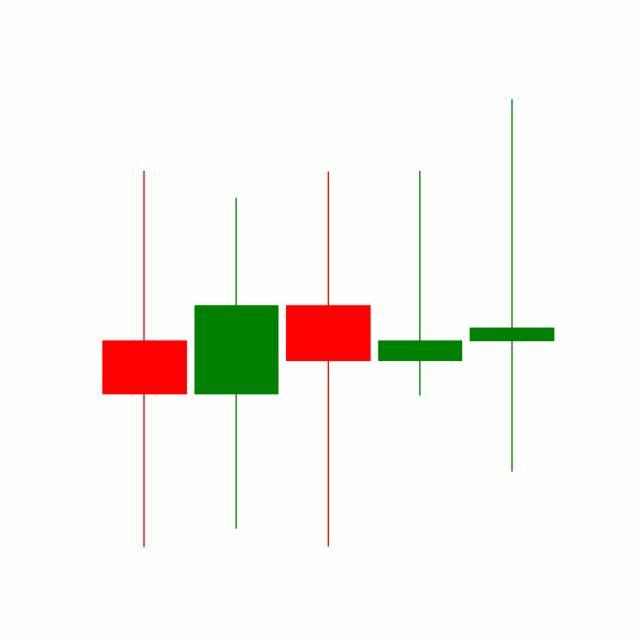Spinning Top: (466, 96, 559, 477)
